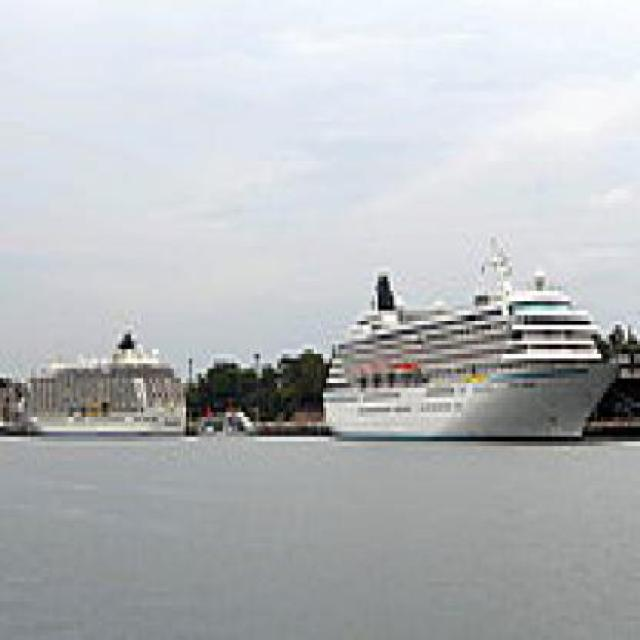cruise: (321, 253, 635, 452)
